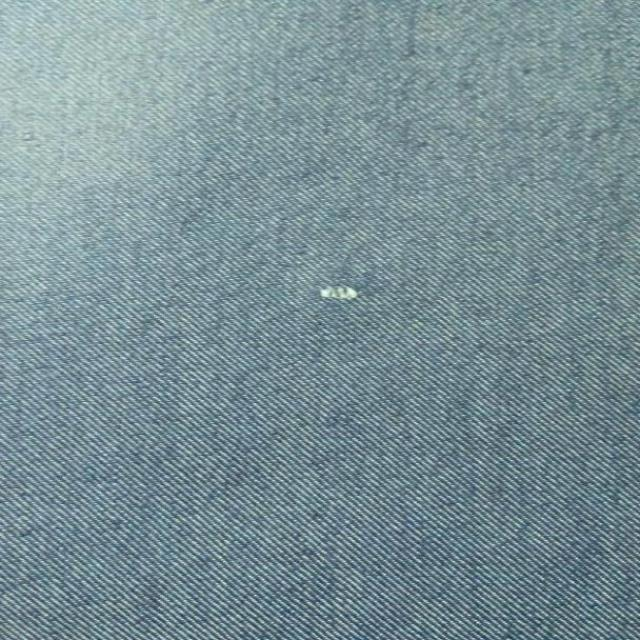Knot: (321, 286, 358, 299)
